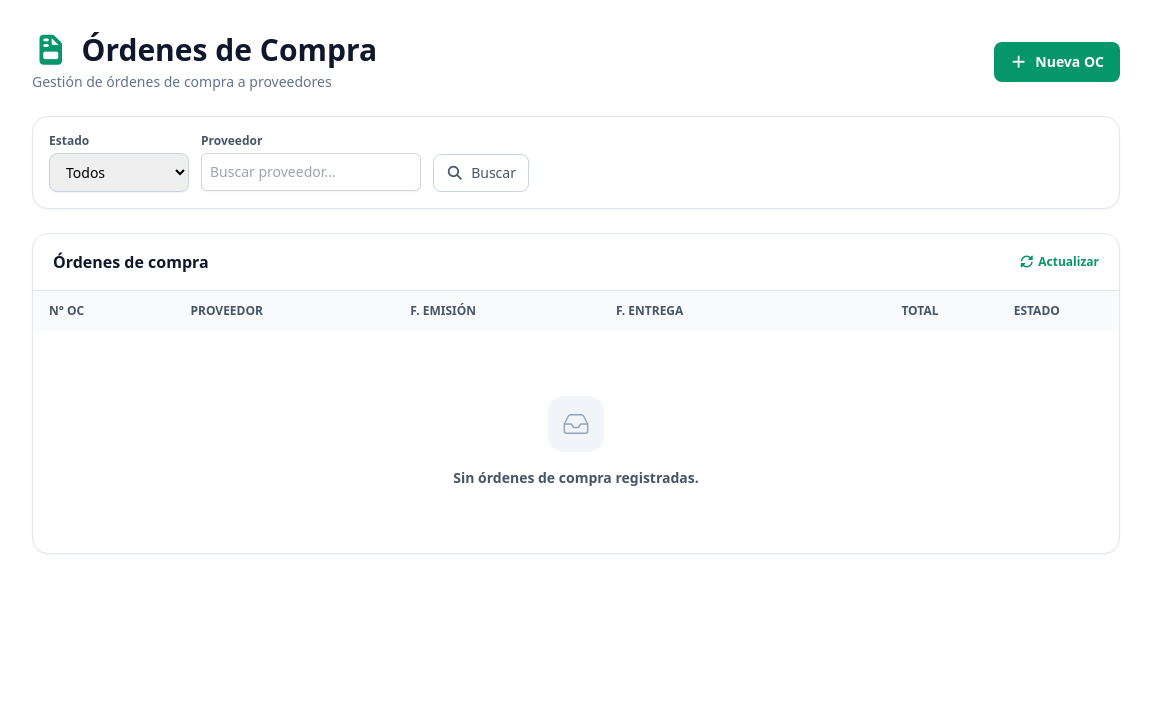
Test case: GestionOrdenes › botón "Nueva OC" abre el modal de creación
The width and height of the screenshot is (1152, 720).
Expected: the text "Sin órdenes de compra registradas." is shown, [453,468,699,488]
Step 1. Click the button "Nueva OC" → {"x": 1057, "y": 62}, box [994,42,1120,82]
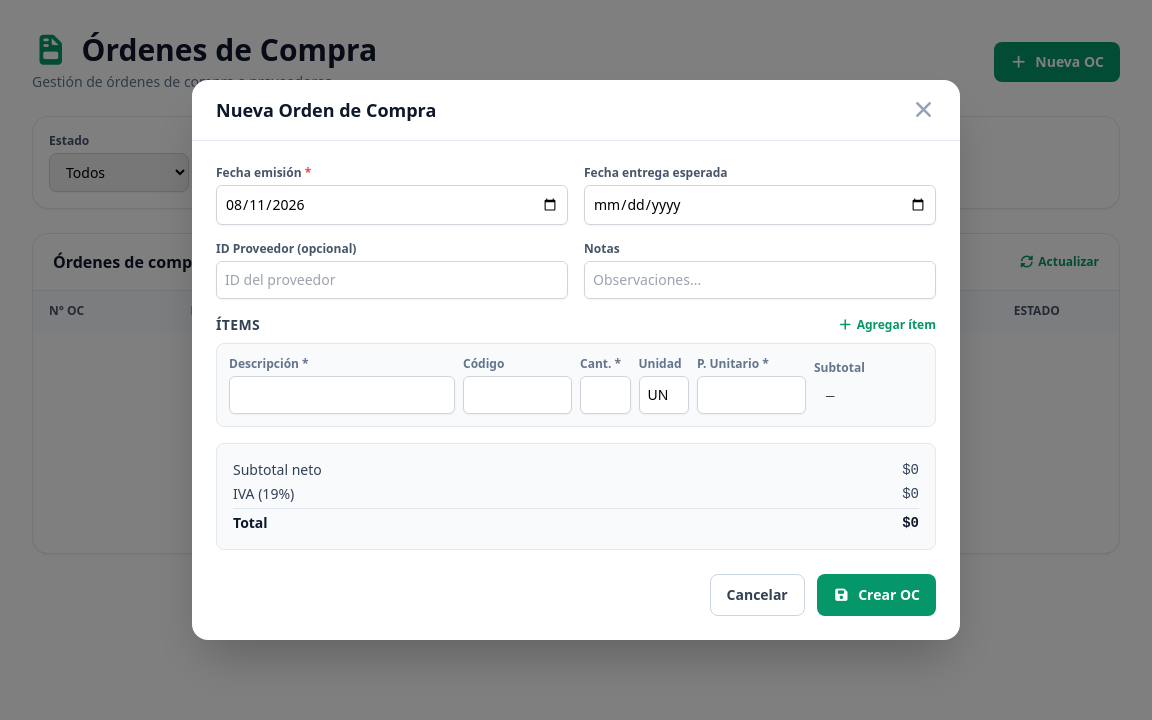
Result: the heading "Nueva Orden de Compra" is shown at [216,96,436,124]
